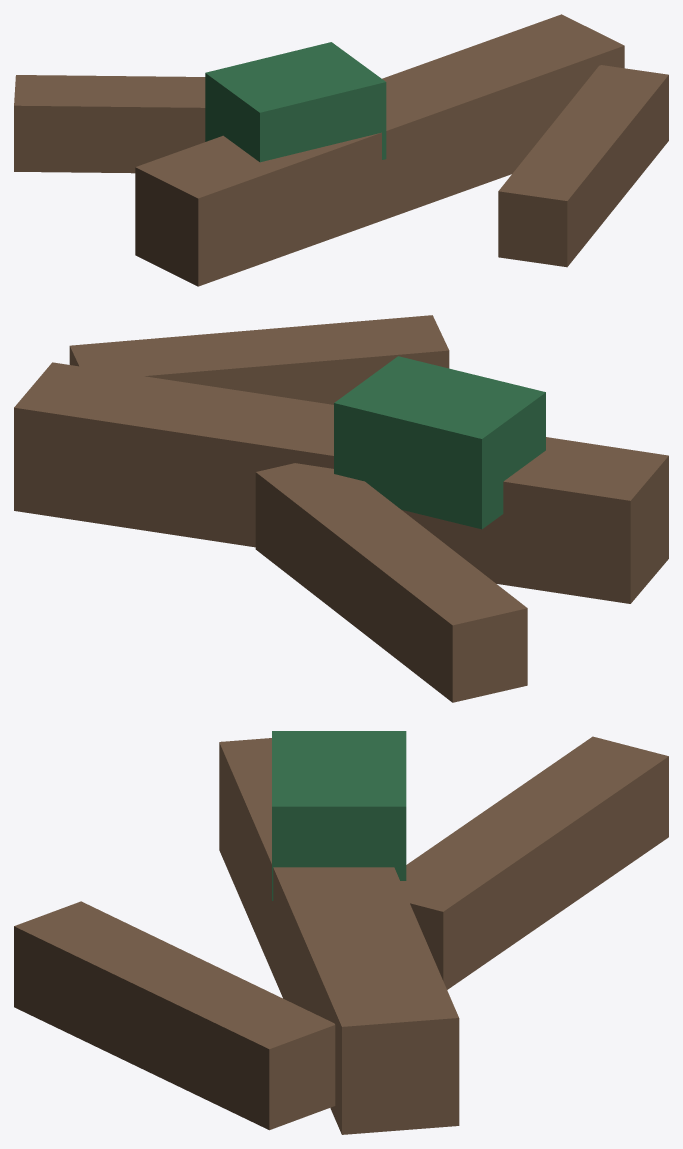
File: df_twisted_roots_a.glb
3 views of the same model, one above another, from view 1: azimuth 30°, elevation 25°; view 2: azimuth 150°, elevation 25°; view 3: azimuth 270°, elevation 25° (orthographic). The views are drawn at different scales.
Visible parts, largest first — view 1: root_main, root_split_b, root_split_a, moss_lump; view 2: root_main, root_split_a, moss_lump, root_split_b; view 3: root_main, root_split_b, root_split_a, moss_lump.
Boxes of the visible parts, x1,y1,x2,y2 form: root_main: (135, 14, 624, 286); root_split_b: (498, 65, 668, 267); root_split_a: (14, 75, 205, 173); moss_lump: (205, 42, 386, 162); root_main: (14, 362, 668, 603); root_split_a: (255, 463, 527, 702); moss_lump: (334, 356, 545, 529); root_split_b: (69, 315, 449, 404); root_main: (219, 738, 459, 1134); root_split_b: (14, 901, 335, 1130); root_split_a: (400, 736, 668, 989); moss_lump: (272, 731, 406, 900).
Bounding box in the file's own units: 0.9936 × 0.25 × 0.8793.
